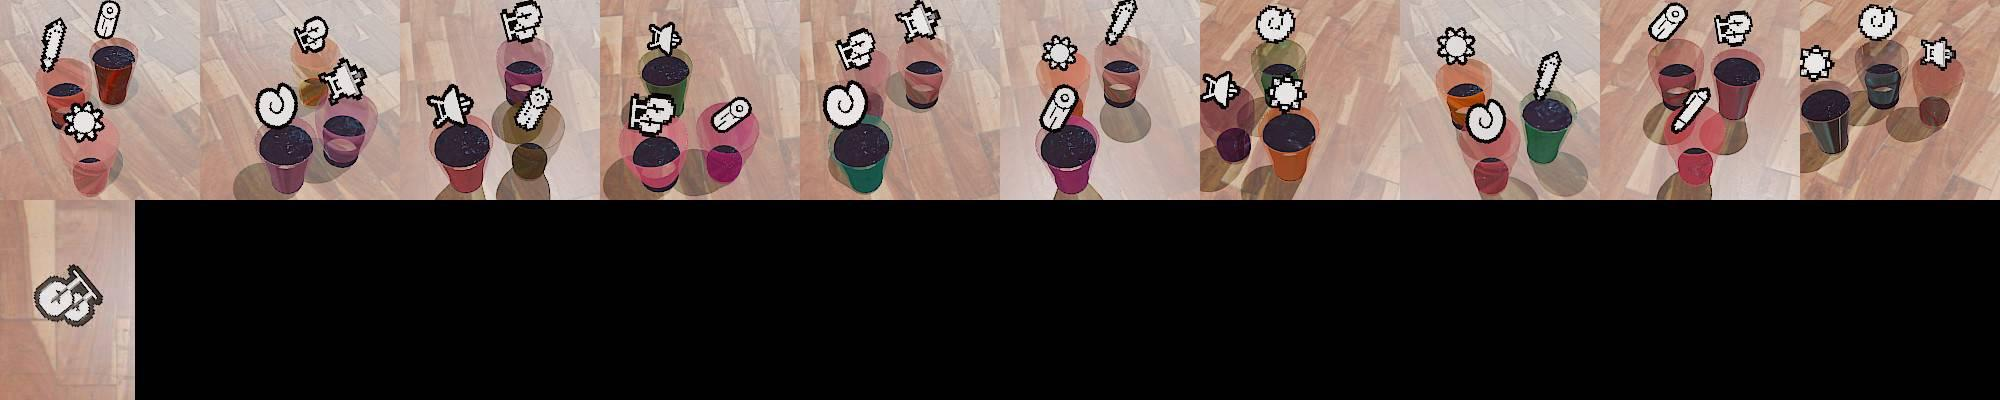icon: (32, 262, 106, 324), (625, 90, 678, 136), (426, 81, 476, 129), (320, 56, 369, 104), (822, 82, 868, 130), (1039, 84, 1082, 134), (255, 82, 299, 130), (61, 99, 106, 143), (895, 0, 941, 43), (500, 0, 544, 44), (1465, 97, 1507, 143), (1670, 86, 1711, 133), (834, 27, 876, 70), (515, 84, 554, 130), (1531, 49, 1562, 103), (1102, 0, 1138, 46), (1648, 2, 1688, 43), (1857, 3, 1899, 42), (1437, 25, 1477, 65), (1255, 5, 1296, 44), (711, 95, 753, 133), (1712, 9, 1753, 47), (40, 16, 67, 73), (1200, 70, 1239, 108), (294, 15, 329, 56), (1798, 44, 1835, 82), (1041, 34, 1079, 70), (1919, 35, 1956, 70), (1268, 72, 1306, 106), (646, 21, 682, 56), (95, 1, 121, 41)
